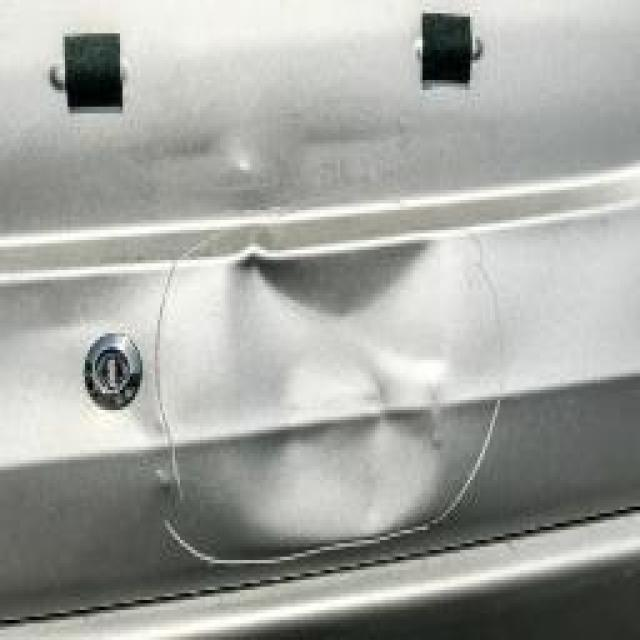Door: (145, 233, 548, 617)
